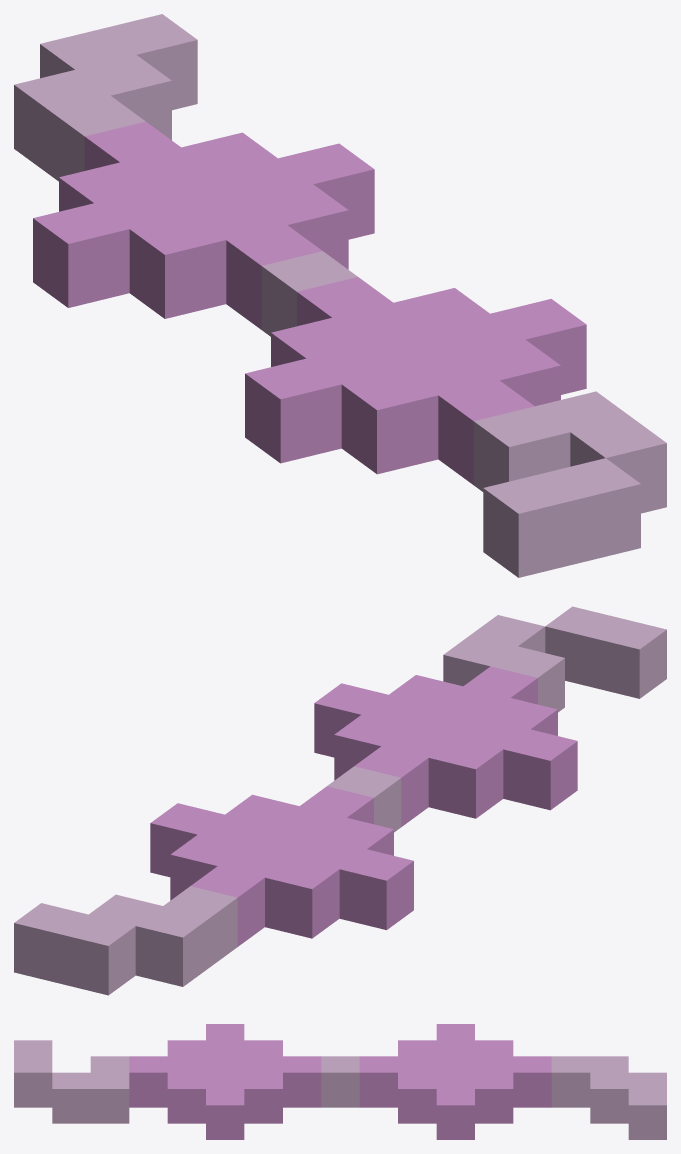
The model's file is Bra00.gltf.
The picture shows the model from 3 angles, top to bottom: view 1: azimuth 30°, elevation 25°; view 2: azimuth 150°, elevation 25°; view 3: azimuth 270°, elevation 25°; orthographic projection. The views are drawn at different scales.
Parts seen in each view (by area): view 1: Layer.1; view 2: Layer.1; view 3: Layer.1.
Part boxes in pixels (x1,y1,x2,y2): Layer.1: [14, 14, 666, 577]; Layer.1: [14, 606, 666, 995]; Layer.1: [14, 1024, 666, 1139].
Size of the model in its own units: 5 by 1 by 17.
